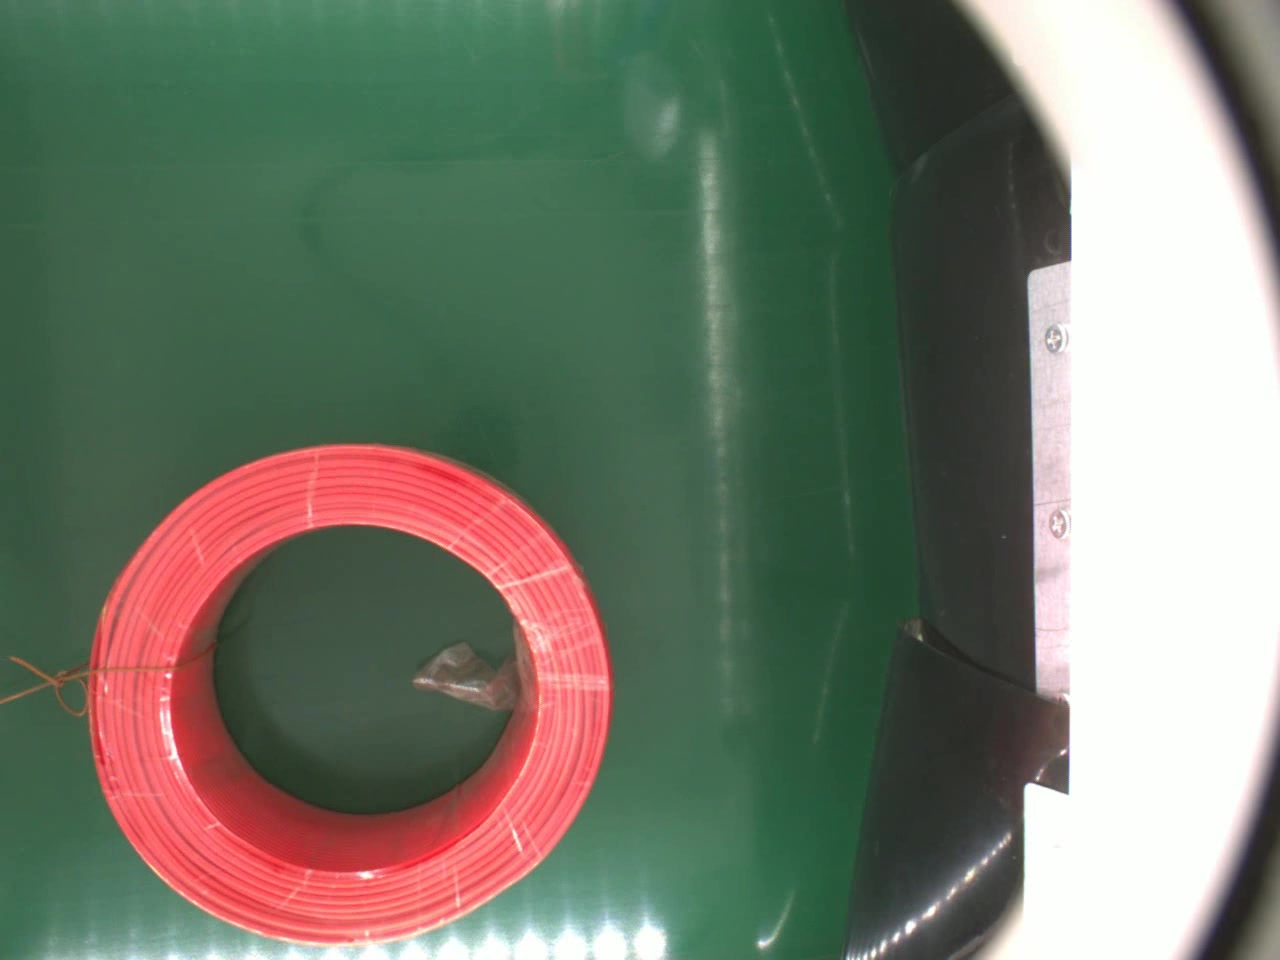red: (81, 443, 613, 949)
